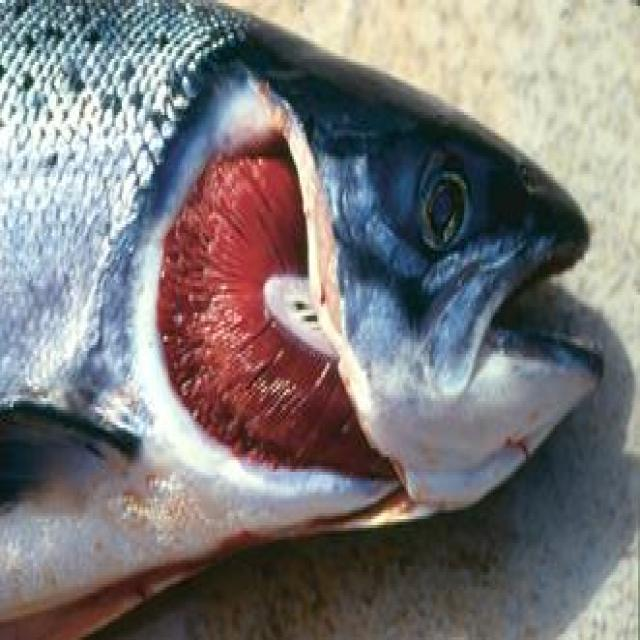Gill Disease: (104, 14, 546, 570)
